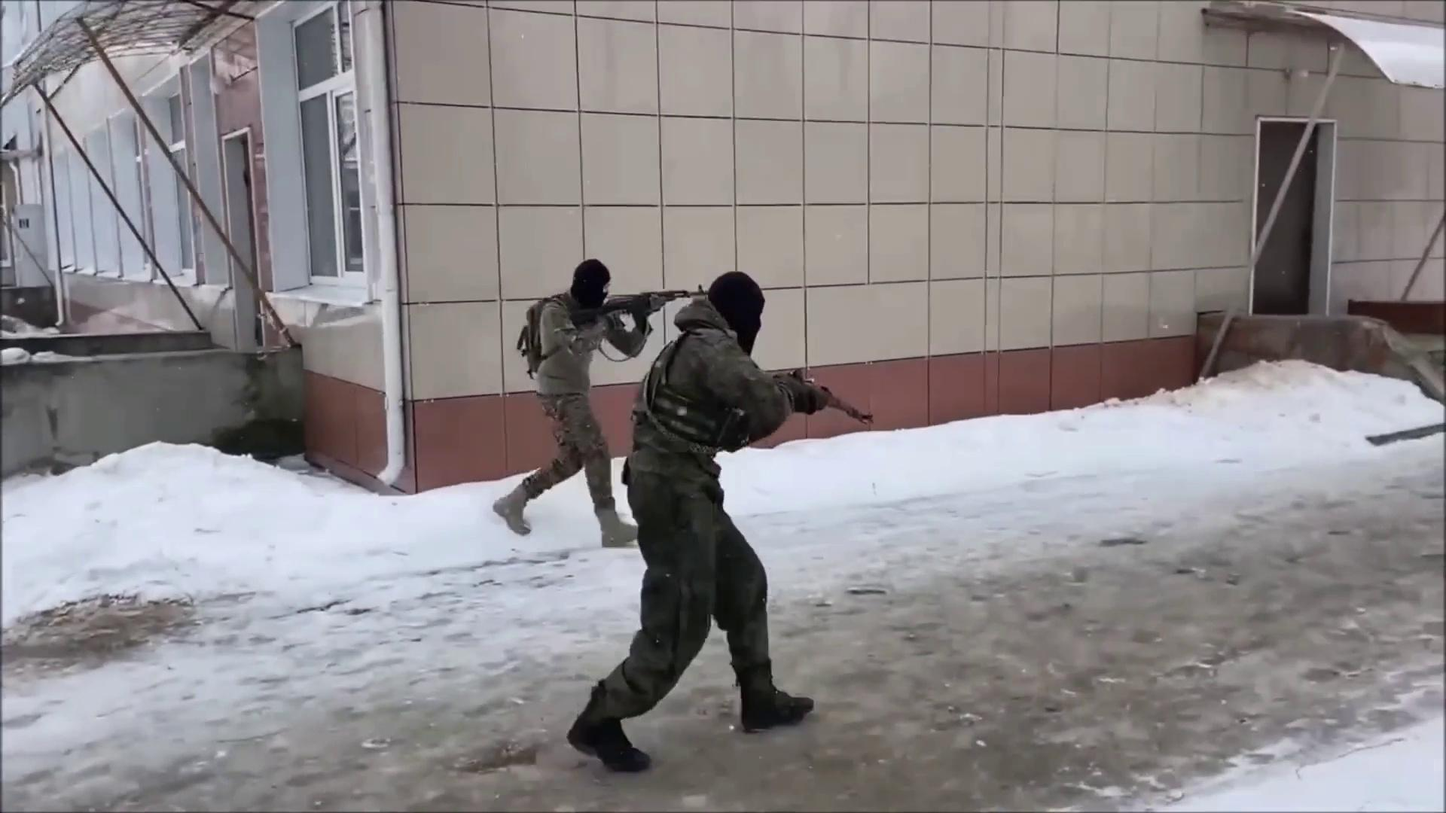person: (563, 270, 832, 774), (491, 256, 667, 550)
rifle: (772, 366, 876, 429)
